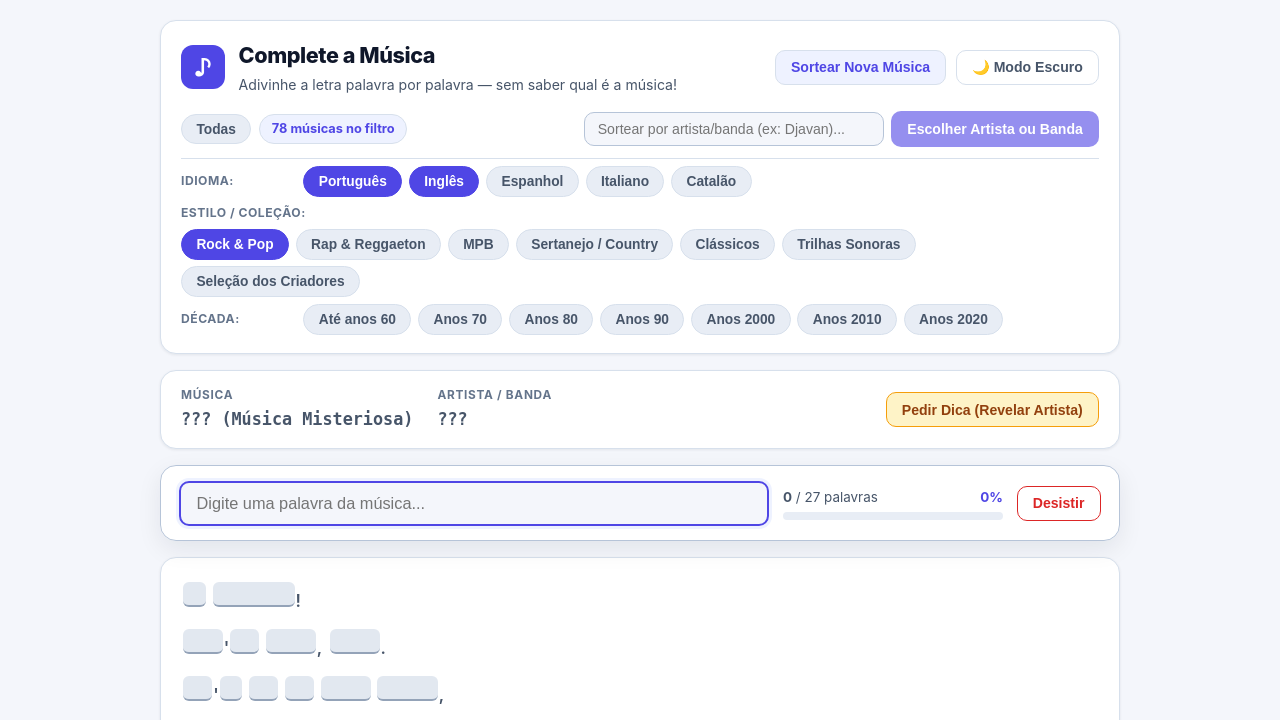
Test: Complete a Música App integration › reveals only the artist when requesting a hint
expect the field labelled "Digite uma palavra da música..." is shown: met, box top-left (179, 481), bottom-right (769, 526)
Click the button "Pedir Dica (Revelar Artista)": (992, 410) top-left (886, 392), bottom-right (1099, 427)
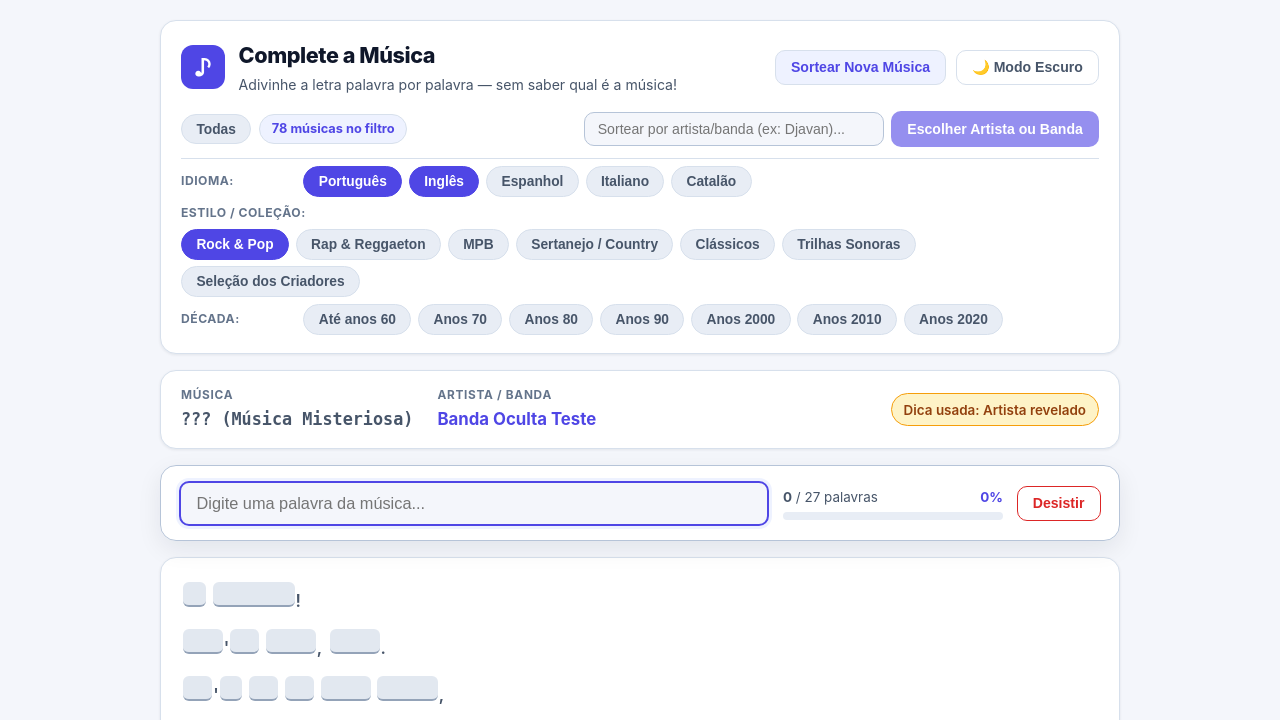
expect the heading "Complete a Música" is shown: met, box top-left (239, 42), bottom-right (435, 68)
expect the text "Banda Oculta Teste" is shown: met, box top-left (437, 407), bottom-right (596, 432)
